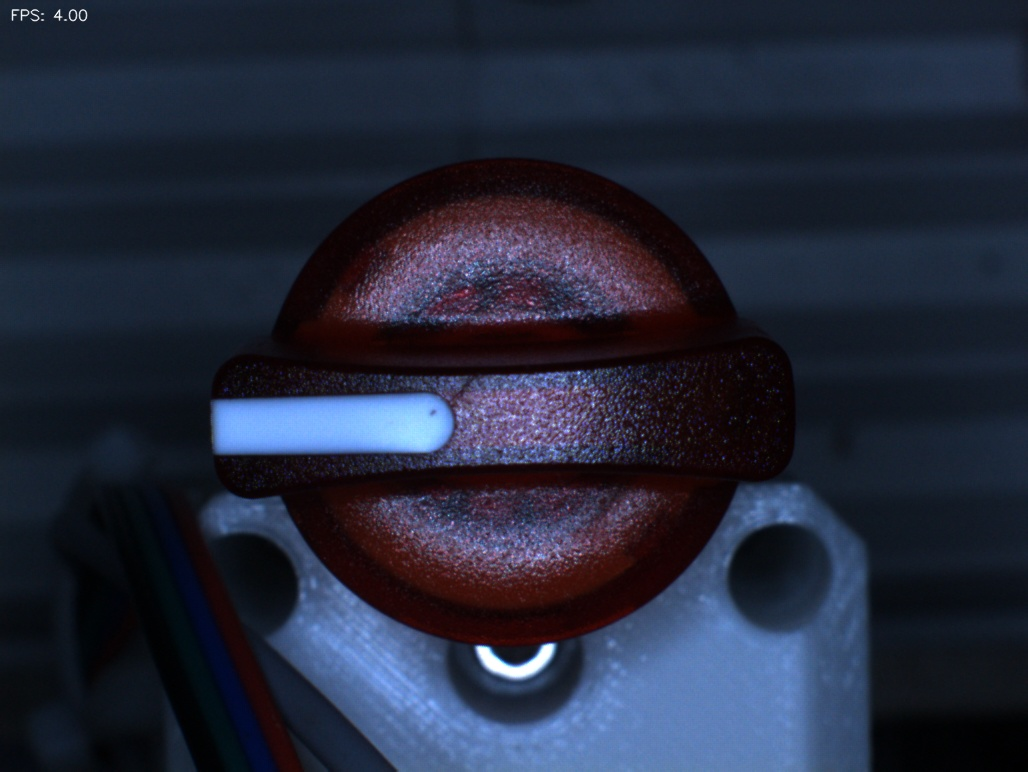PointNoir: (383, 385, 474, 456)
